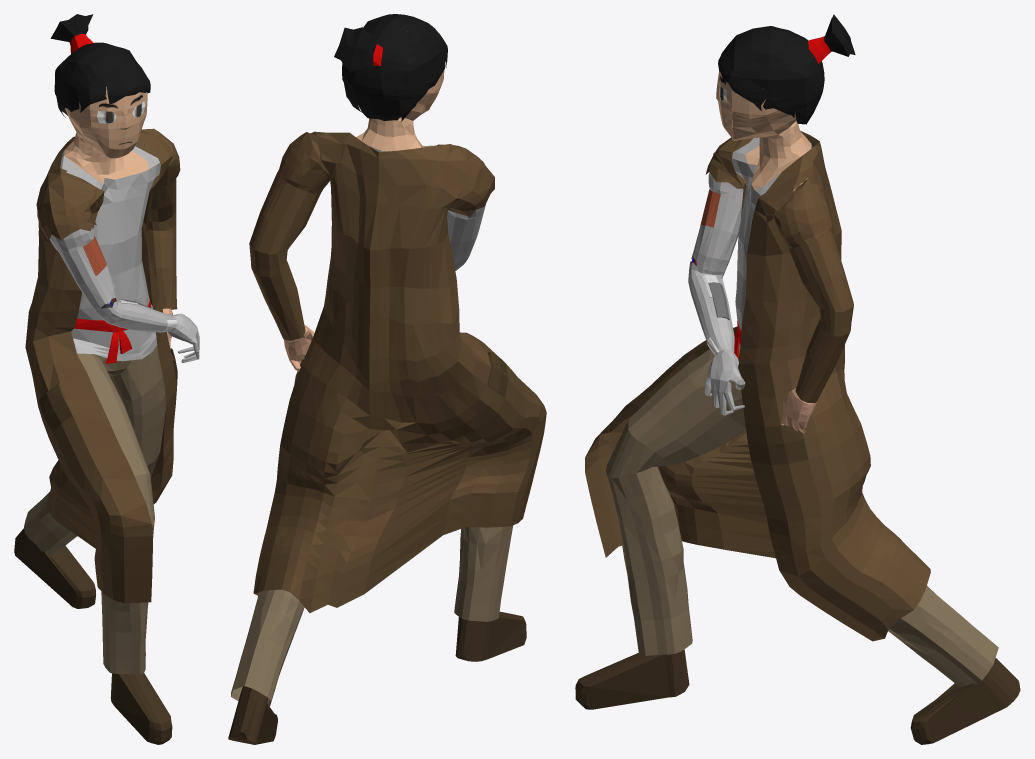
Rendered from One_Die_000001.obj.
3 views of the same model, side by side, from view 1: azimuth 30°, elevation 25°; view 2: azimuth 150°, elevation 25°; view 3: azimuth 270°, elevation 25° (orthographic). The views are drawn at different scales.
Parts seen in each view (by area): view 1: Hair_Cube.004; view 2: Hair_Cube.004; view 3: Hair_Cube.004.
Part boxes in pixels (x1,y1,x2,y2): Hair_Cube.004: (14,14,199,744); Hair_Cube.004: (228,14,546,744); Hair_Cube.004: (575,14,1020,744).
Bounding box in the file's own units: 1.09 × 3.7 × 2.13.
